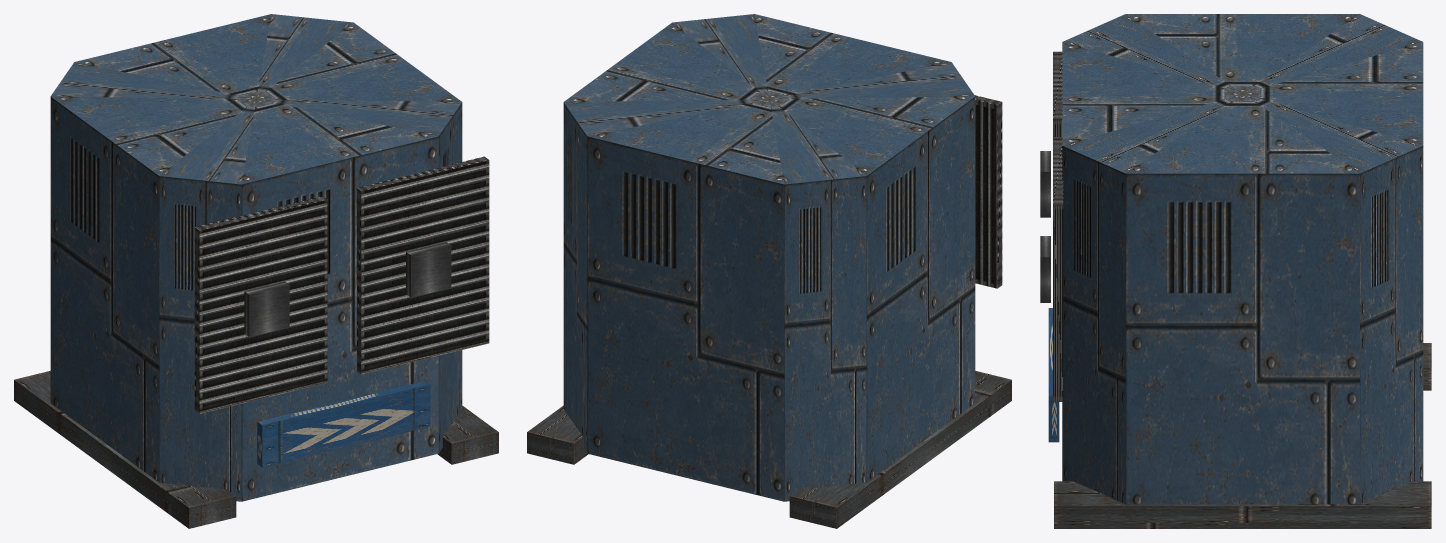
Rendered from cooling-unit.obj.
3 views of the same model, side by side, from view 1: azimuth 30°, elevation 25°; view 2: azimuth 150°, elevation 25°; view 3: azimuth 270°, elevation 25° (orthographic). The views are drawn at different scales.
Parts seen in each view (by area): view 1: cooling-unit; view 2: cooling-unit; view 3: cooling-unit.
Part boxes in pixels (left/top/right/bottom): cooling-unit: left=14, top=14, right=498, bottom=528; cooling-unit: left=527, top=14, right=1011, bottom=528; cooling-unit: left=1040, top=14, right=1431, bottom=528.
Size of the model in its own units: 0.92 by 0.93 by 0.9325.
Materials: 2 (2 with a texture image).
